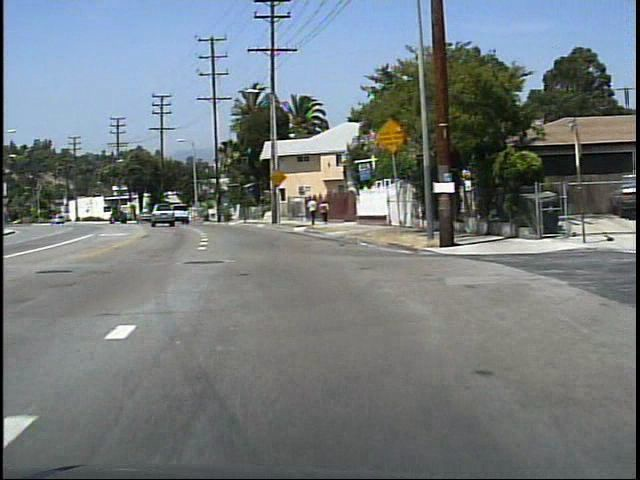person: (305, 196, 319, 227), (318, 199, 331, 227)
